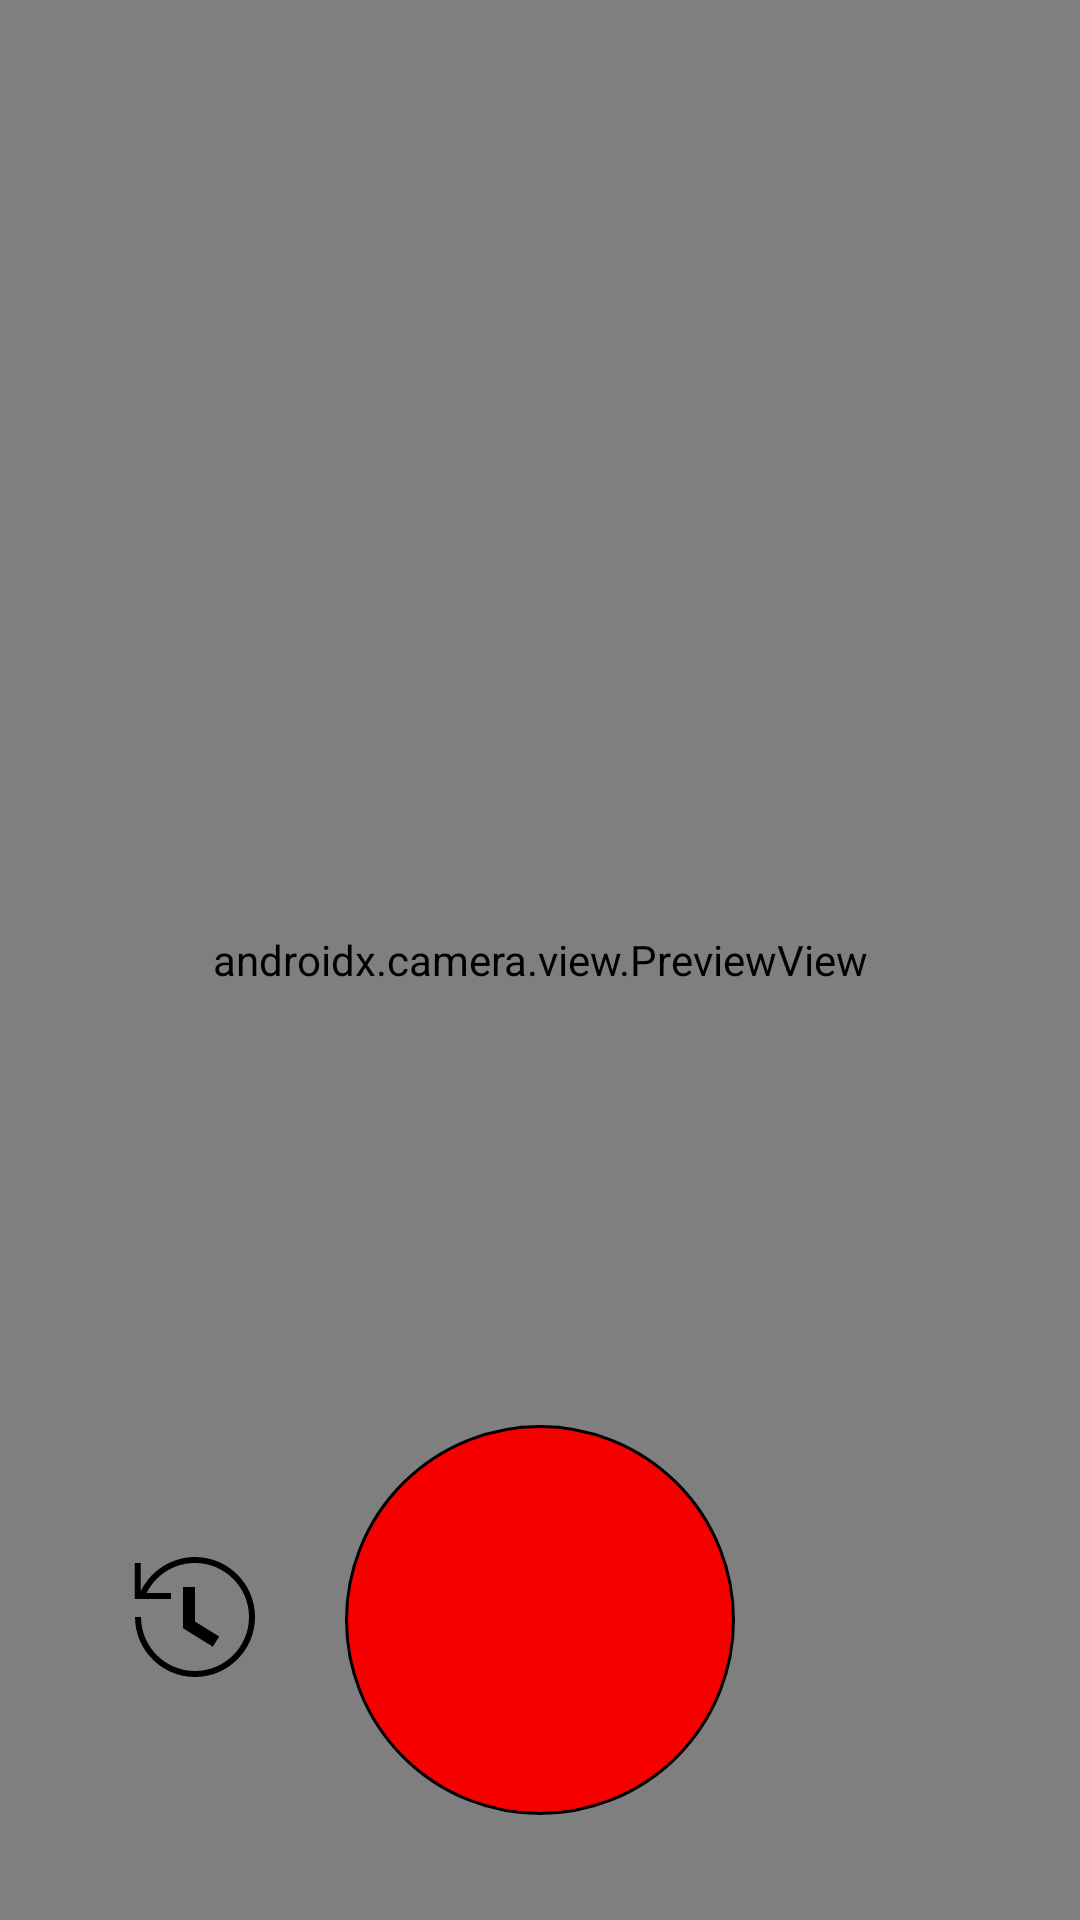

Where to tap for icons on this 1080px×1920px app screen, as (x=x, y=y):
Histórico: (x=194, y=1617)
